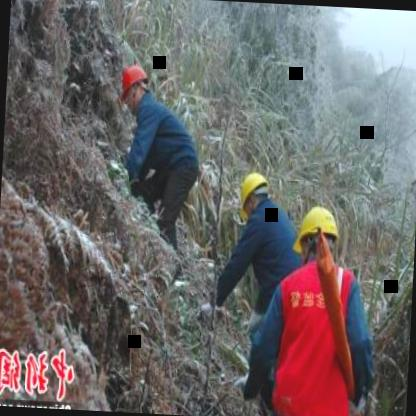helmet: (296, 198, 340, 274), (233, 168, 274, 221), (116, 61, 150, 107)
